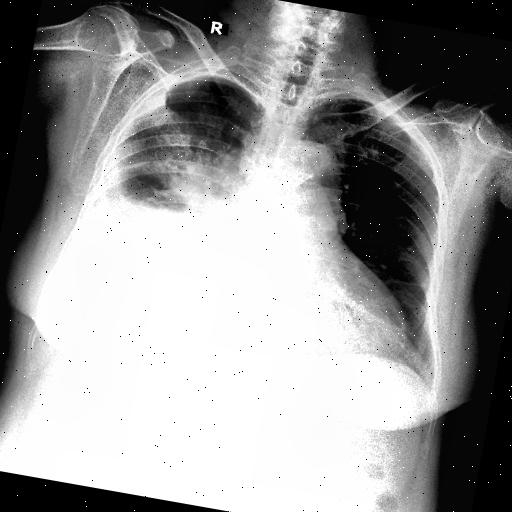0- Aortic enlargement: (266, 134, 354, 220), (266, 134, 350, 218), (272, 134, 352, 212)
10- Pleural effusion: (58, 80, 272, 355), (44, 76, 252, 346), (47, 153, 226, 320)
13- Pulmonary fibrosis: (362, 264, 430, 296)
3- Cardiomegaly: (162, 225, 418, 376), (170, 210, 420, 364)
4- Consolidation: (119, 104, 204, 196)
7- Lung Opacity: (104, 97, 252, 223), (106, 94, 248, 220), (99, 96, 243, 219)
